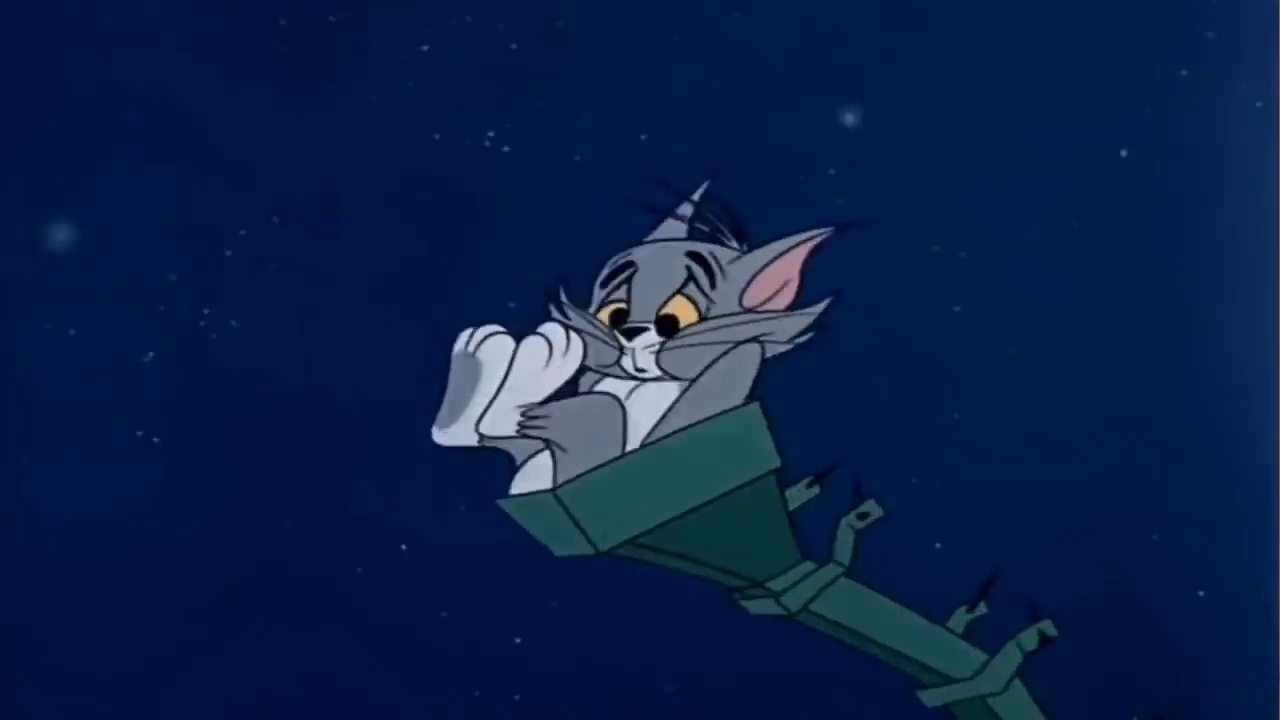face: (588, 245, 724, 378)
